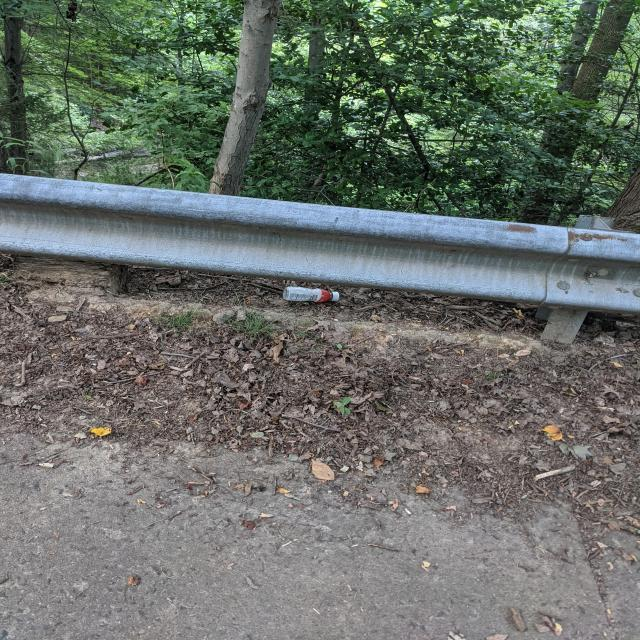litter: (283, 285, 342, 306)
